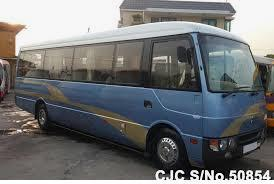bus: (12, 15, 270, 172)
